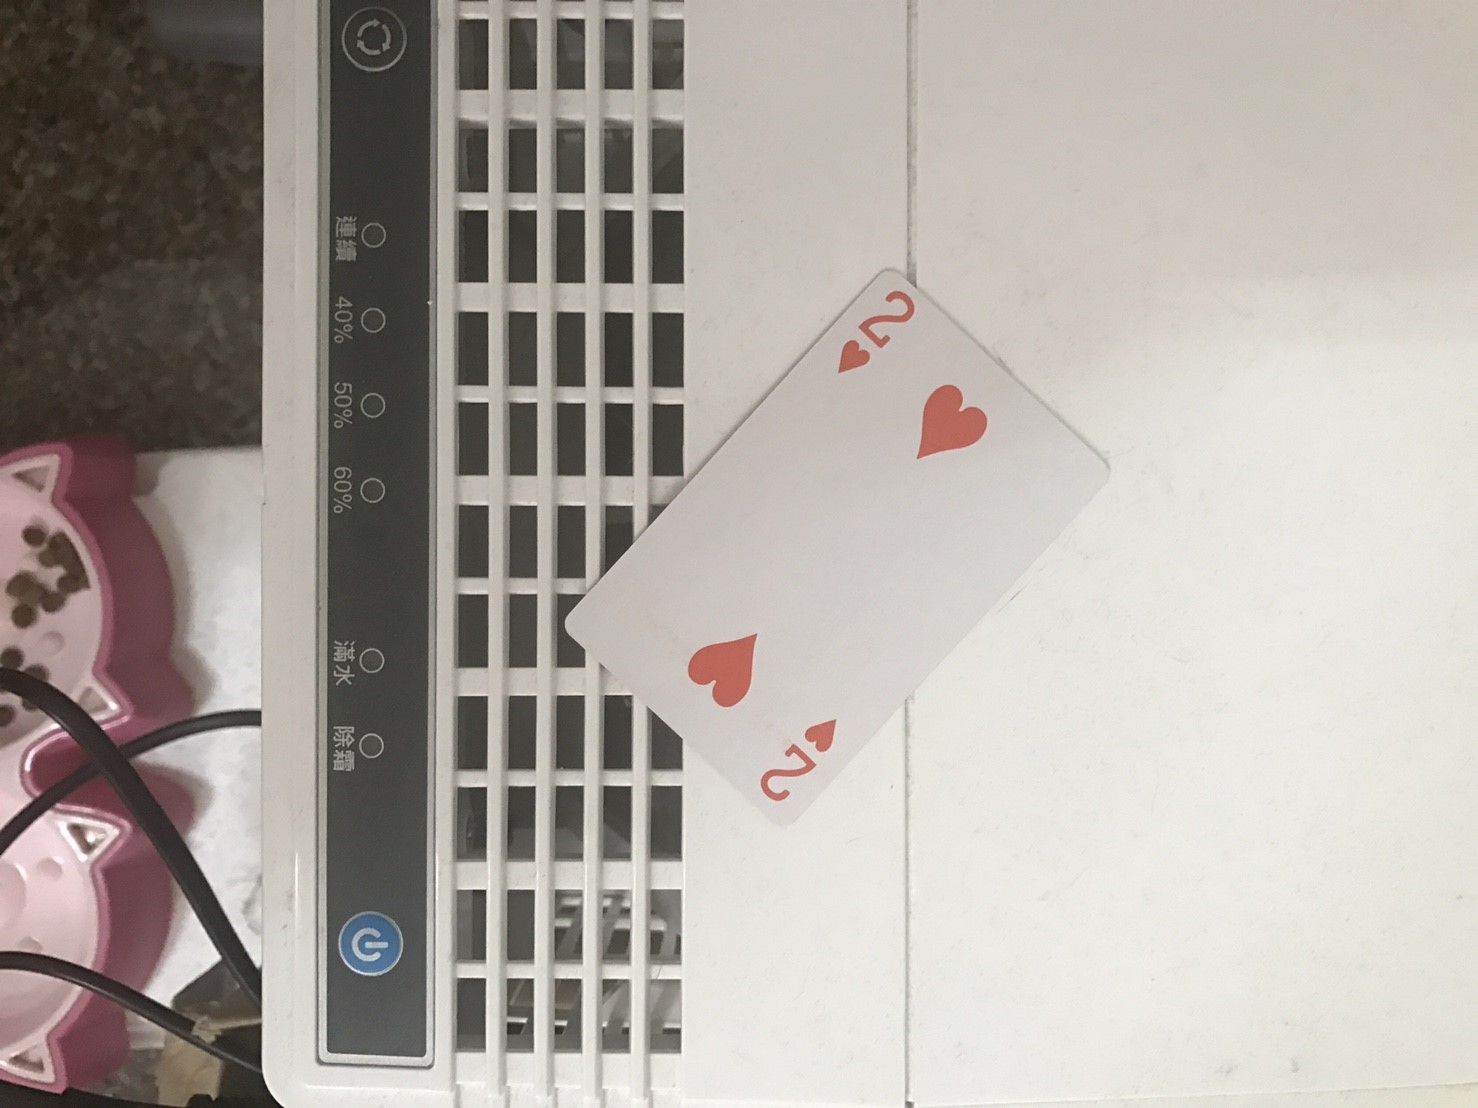hearts: (914, 378, 989, 464), (685, 633, 762, 710), (836, 334, 874, 372), (804, 715, 841, 752)
